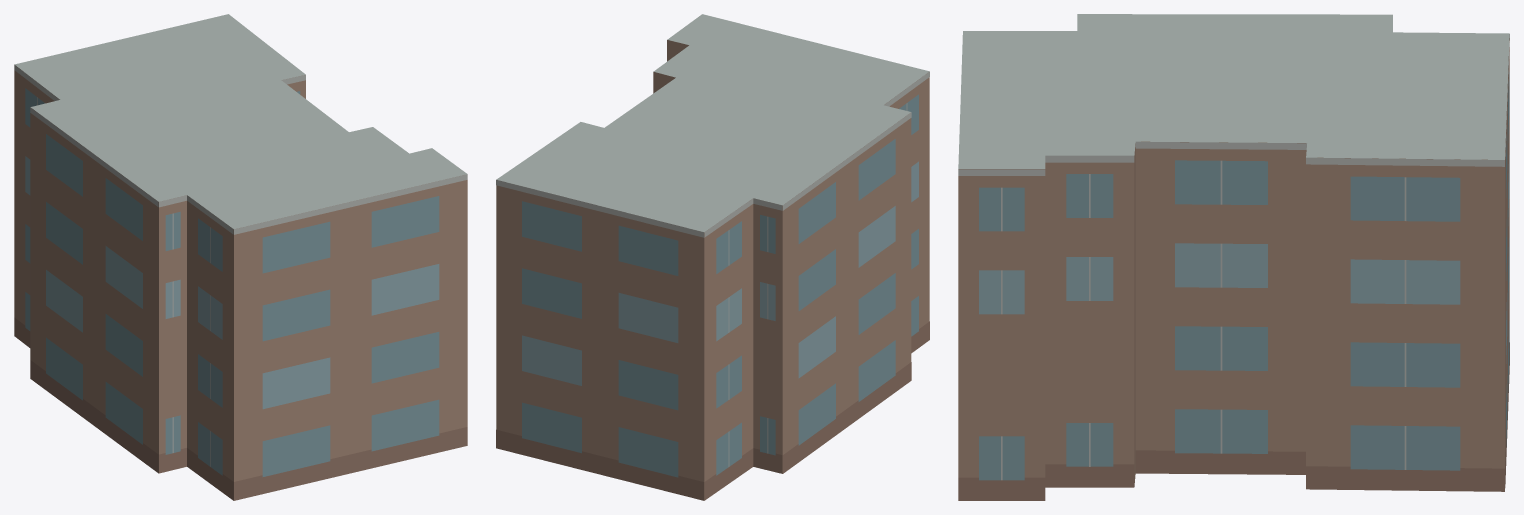
Rendered from survey-upis-32614552.glb.
3 renders of one model, left to right at view 1: azimuth 30°, elevation 25°; view 2: azimuth 150°, elevation 25°; view 3: azimuth 270°, elevation 25°, orthographic. The views are drawn at different scales.
Parts seen in each view (by area): view 1: survey-upis-32614552.tmp; view 2: survey-upis-32614552.tmp; view 3: survey-upis-32614552.tmp.
Part boxes in pixels (bbox=[...]): survey-upis-32614552.tmp: bbox=[14, 14, 467, 500]; survey-upis-32614552.tmp: bbox=[496, 14, 929, 500]; survey-upis-32614552.tmp: bbox=[958, 14, 1509, 500].
Bounding box in the file's own units: 11.84 × 11.8 × 17.78.
